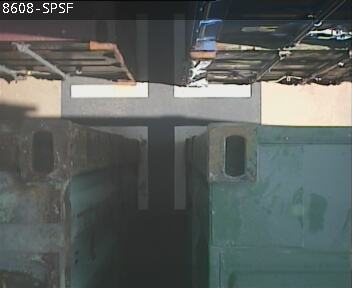groundmarker_1: (70, 13, 251, 97), (90, 126, 204, 209)
